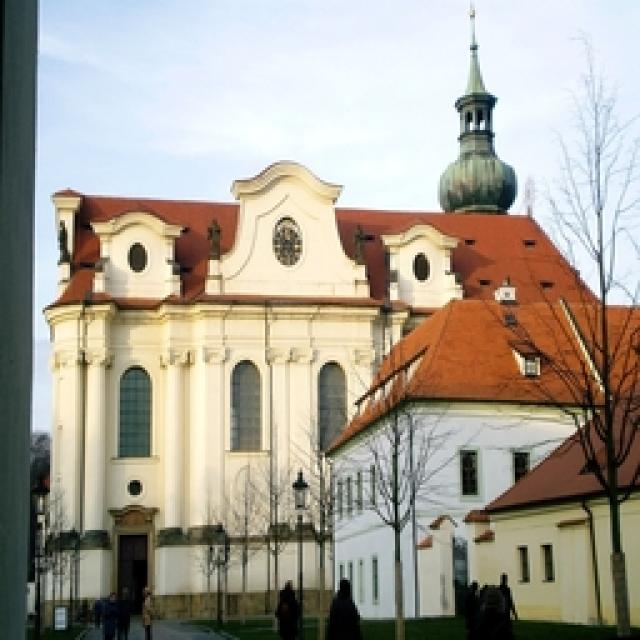Abbey: (106, 235, 365, 587)
